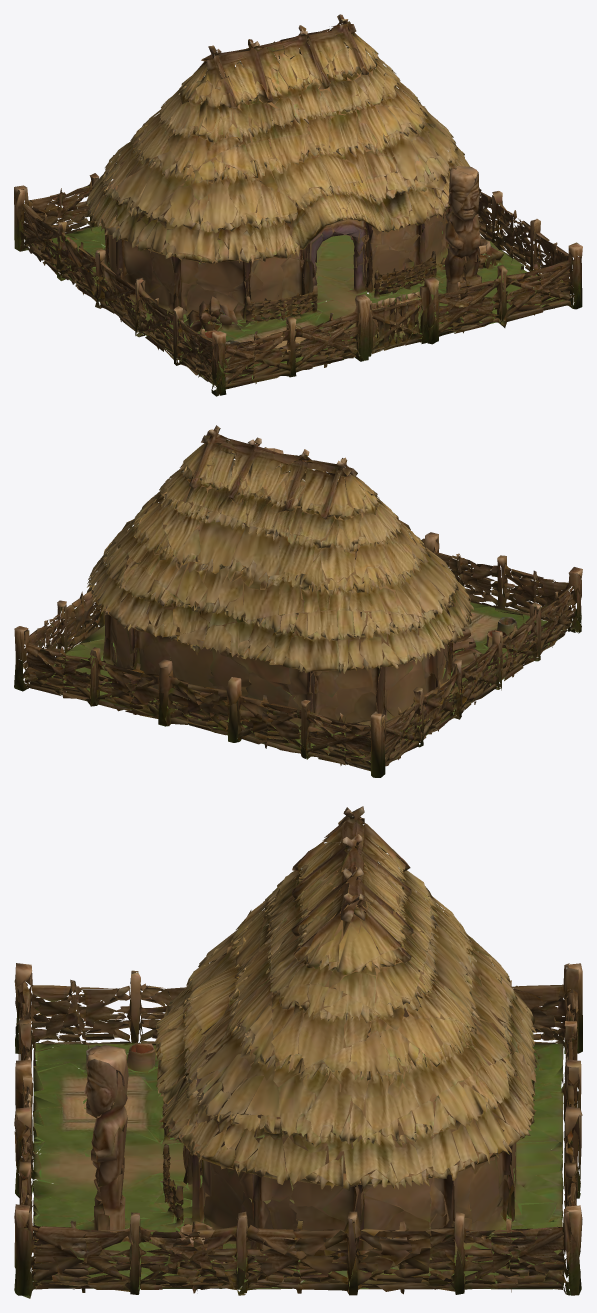
Rendered from mapuches_lof.glb.
3 renders of one model, top to bottom at view 1: azimuth 30°, elevation 25°; view 2: azimuth 150°, elevation 25°; view 3: azimuth 270°, elevation 25°, orthographic. The views are drawn at different scales.
Visible parts, largest first — view 1: Mesh_0; view 2: Mesh_0; view 3: Mesh_0.
Part boxes in pixels (x1,y1,x2,y2): Mesh_0: (14, 14, 582, 396); Mesh_0: (14, 425, 582, 777); Mesh_0: (14, 806, 582, 1298).
Size of the model in its own units: 1.92 by 1.17 by 1.84.
1 material, 1 textured.
